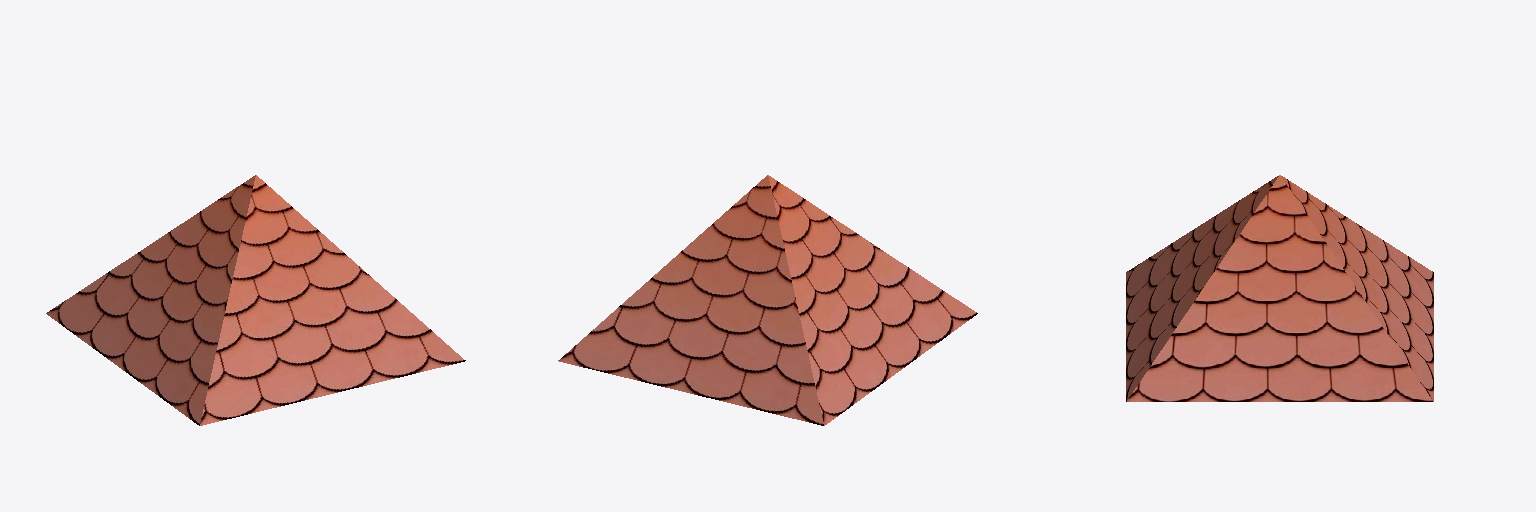
The picture shows the model from 3 angles: view 1: azimuth 30°, elevation 25°; view 2: azimuth 150°, elevation 25°; view 3: azimuth 270°, elevation 25°; orthographic projection.
Parts seen in each view (by area): view 1: Pyramid001; view 2: Pyramid001; view 3: Pyramid001.
Boxes of the visible parts, box(x1,y1,x2,y2) form: Pyramid001: box(46, 175, 465, 425); Pyramid001: box(558, 175, 977, 425); Pyramid001: box(1126, 175, 1433, 401).
Bounding box in the file's own units: 1.2 × 0.7 × 1.2.
Materials: 1 (1 with a texture image).